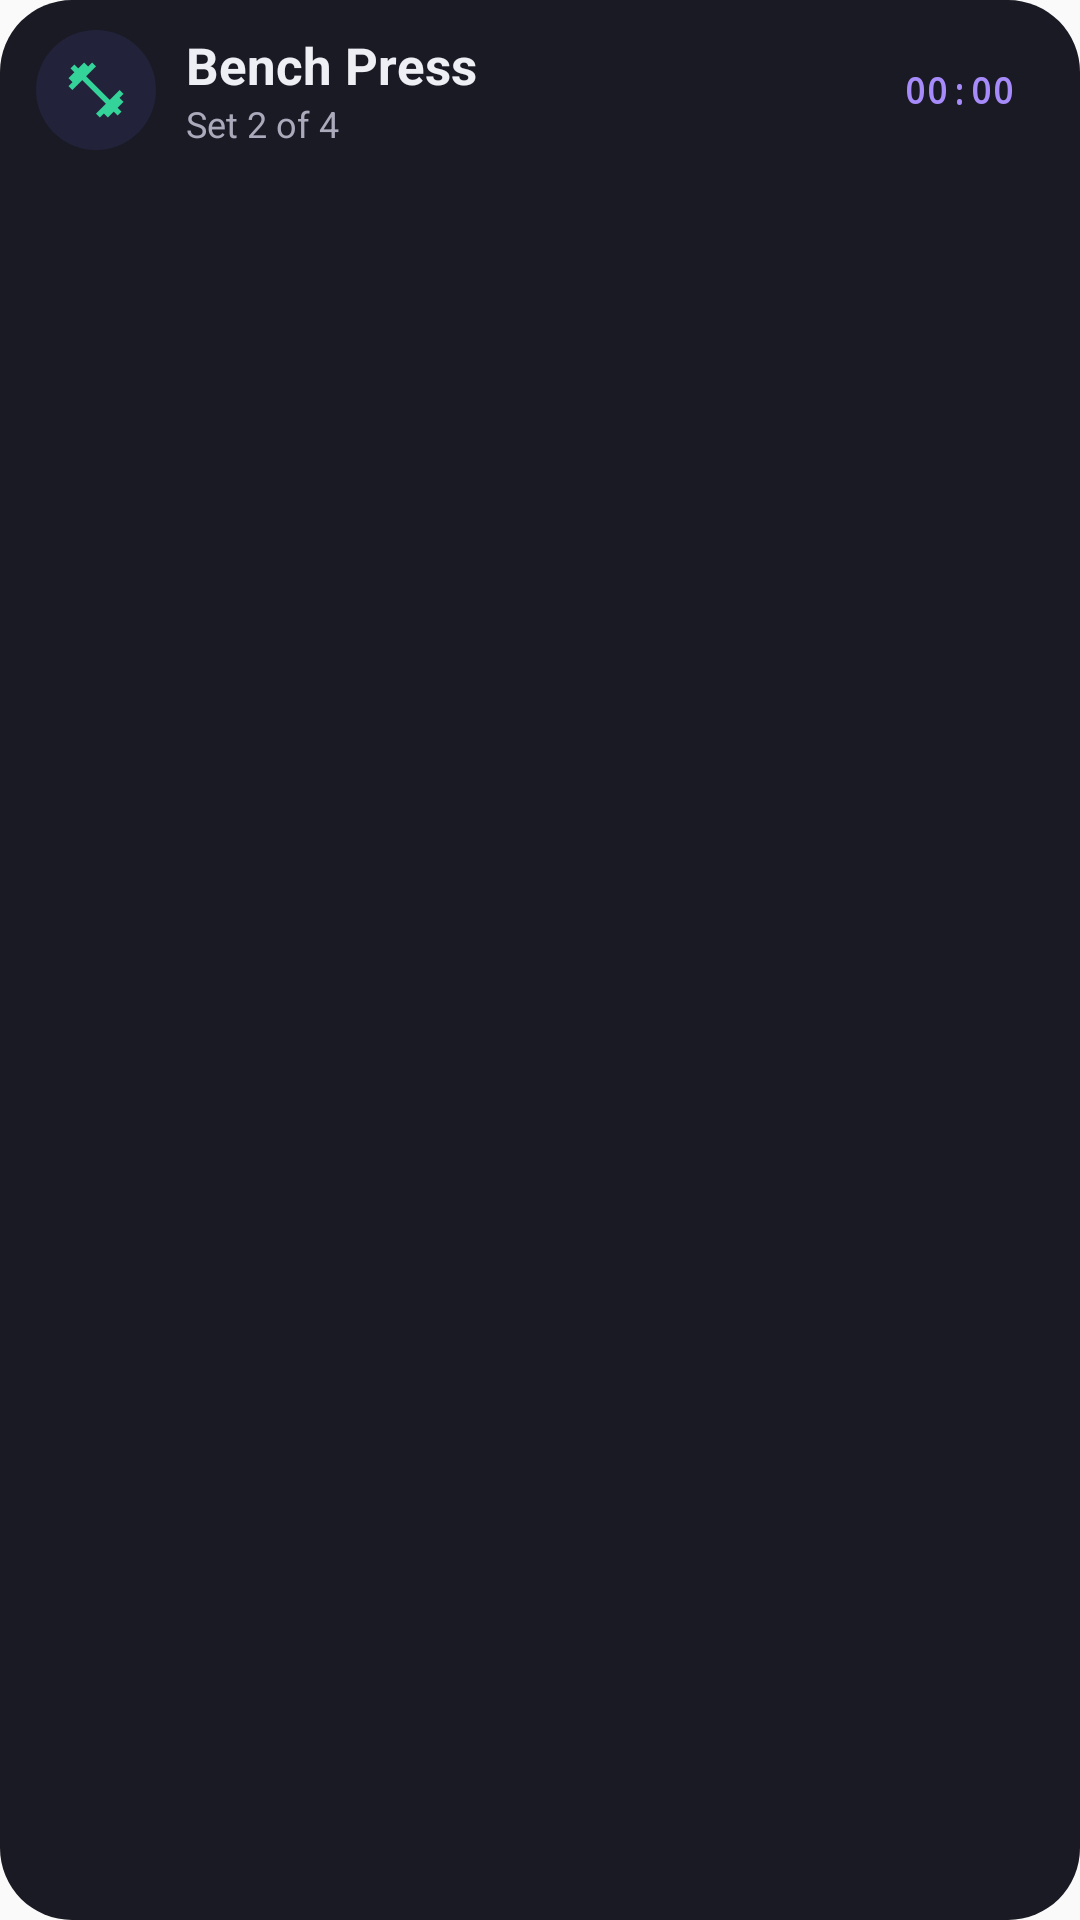

Icons on this 1080px×1920px Android screen, each with the point to tap as point (x, y):
Workout status: point (96, 90)
